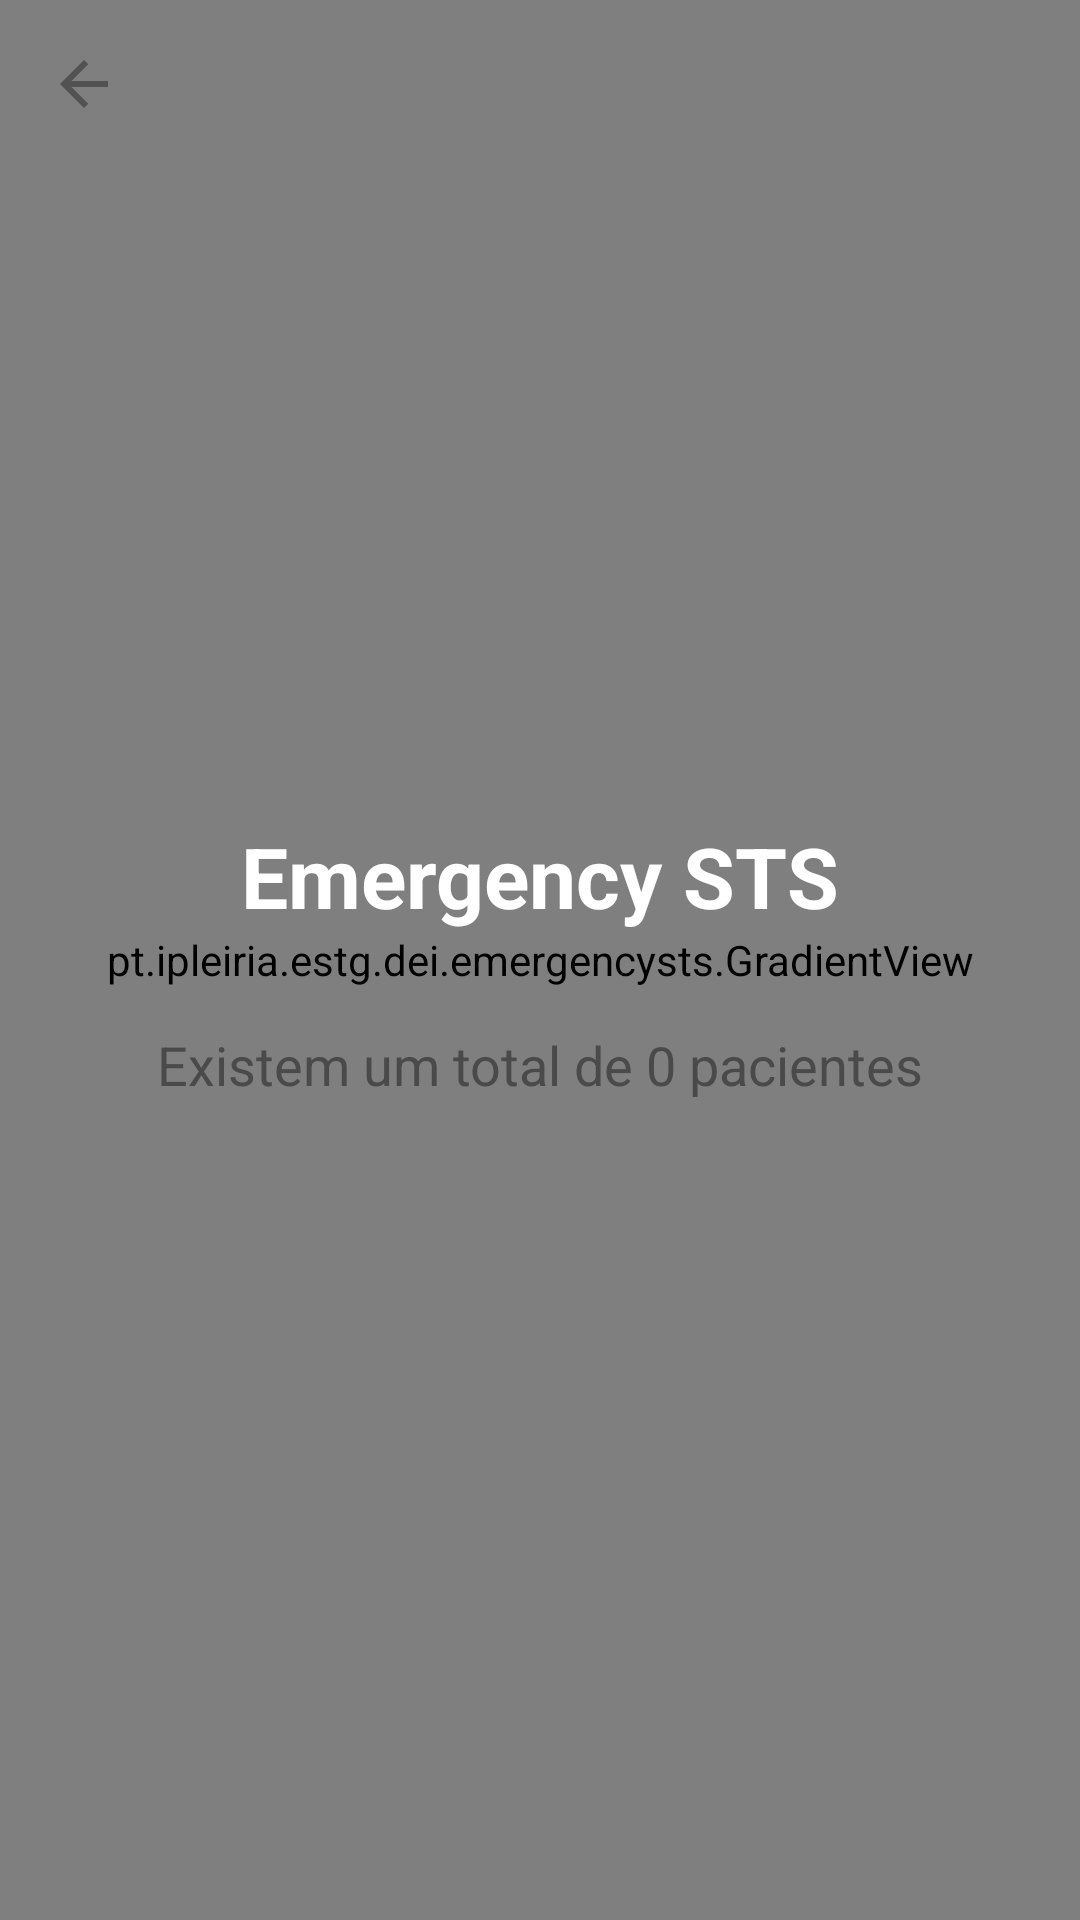

Locate icon controls on the screen. Image size 1080px x 1920px, boxes as [x1=x1, y1=y1, x2=x2, y2=y2].
voltaratras: [x1=61, y1=61, x2=108, y2=107]
